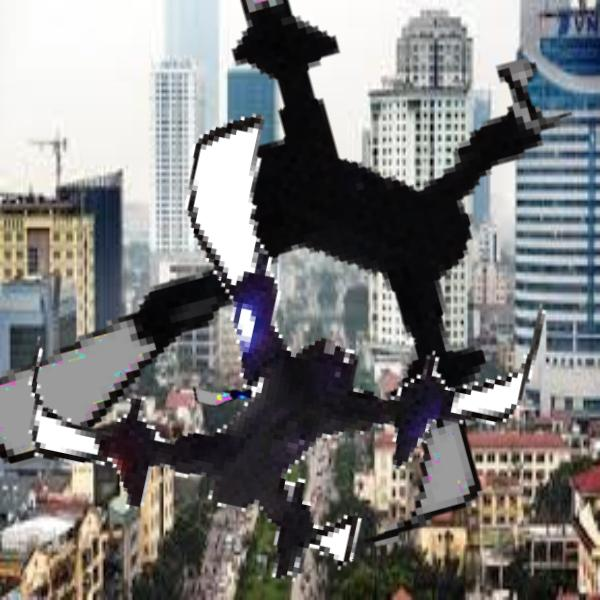drone: (33, 74, 559, 600), (184, 323, 312, 451)
